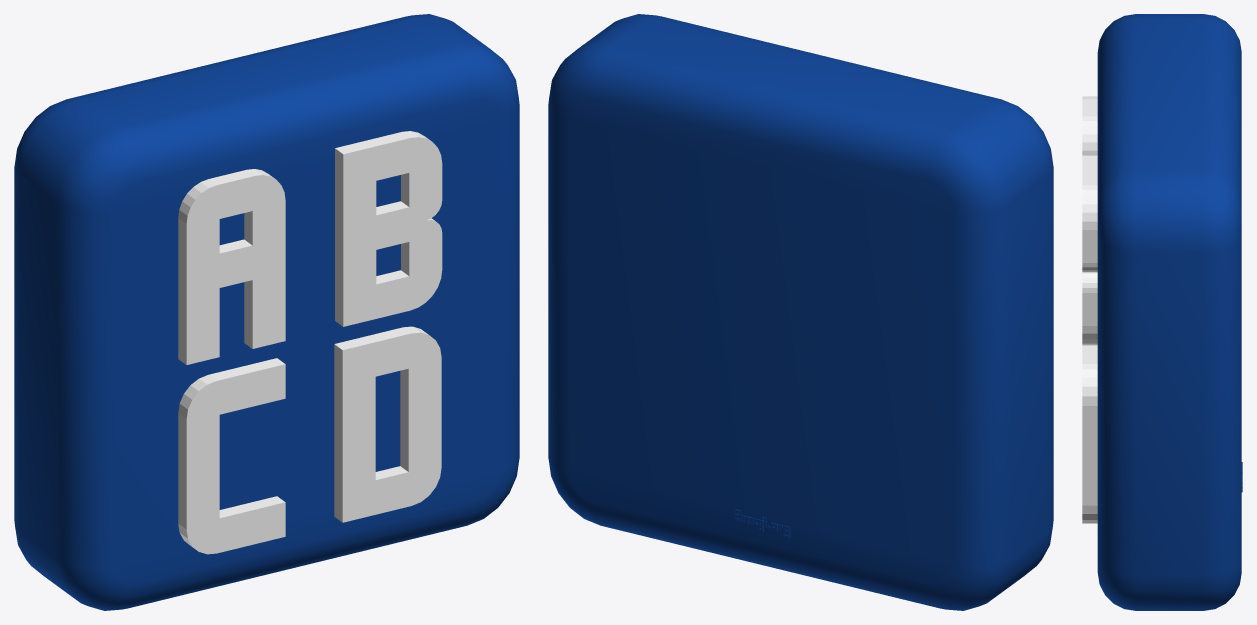
File: input_latin_uppercase.fbx
The picture shows the model from 3 angles, left to right: view 1: azimuth 30°, elevation 25°; view 2: azimuth 150°, elevation 25°; view 3: azimuth 270°, elevation 25°; orthographic projection. The views are drawn at different scales.
Parts seen in each view (by area): view 1: Cube.6589; view 2: Cube.6589; view 3: Cube.6589.
Part boxes in pixels (bbox=[...]): Cube.6589: bbox=[14, 14, 519, 610]; Cube.6589: bbox=[548, 14, 1053, 610]; Cube.6589: bbox=[1082, 14, 1242, 610].
Bounding box in the file's own units: 220 × 220 × 73.37.
Materials: 1 (1 with a texture image).
